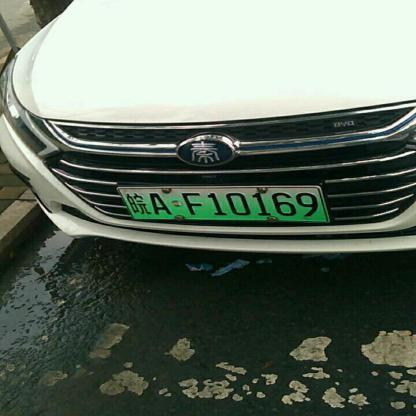lp: (119, 188, 326, 219)
